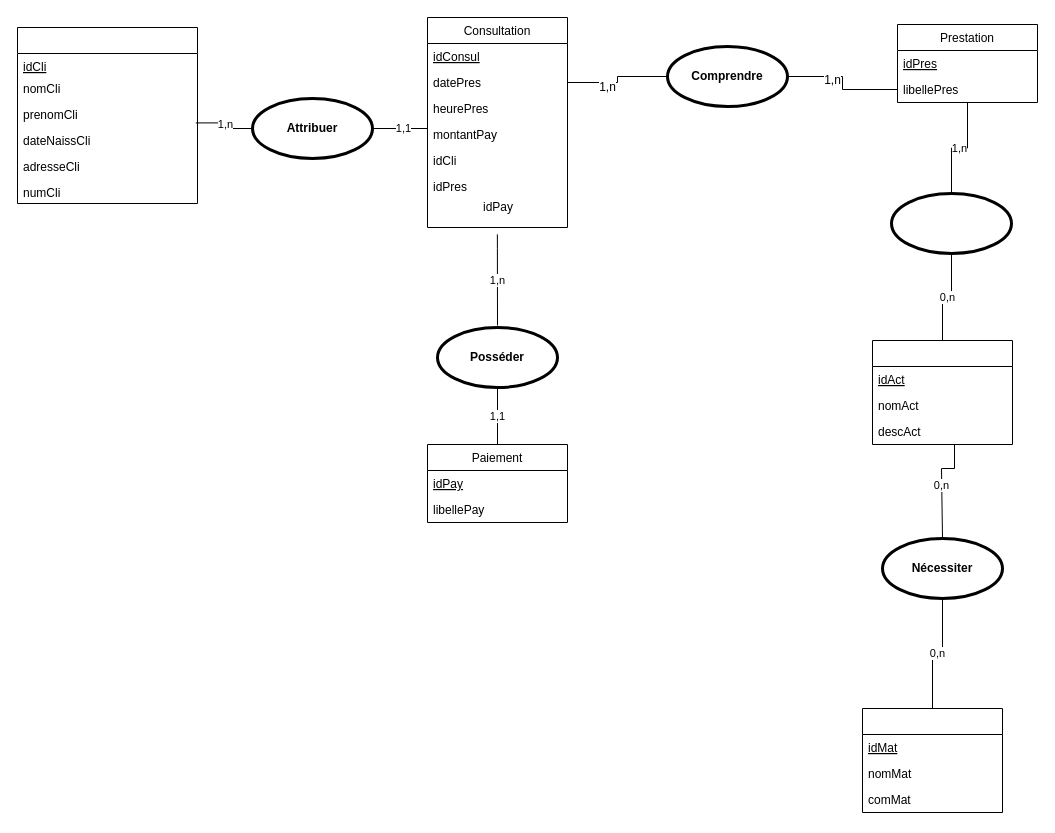
Some shapes in this 1055 by 833 pixel diagram are drawn without their labels. The box of each missing label's shape, as (x1, y1, x2, y2) in pixels:
Activité: (872, 340, 1012, 444)
Client: (16, 26, 198, 204)
Comporter: (890, 192, 1012, 254)
Materiel: (862, 708, 1002, 812)
